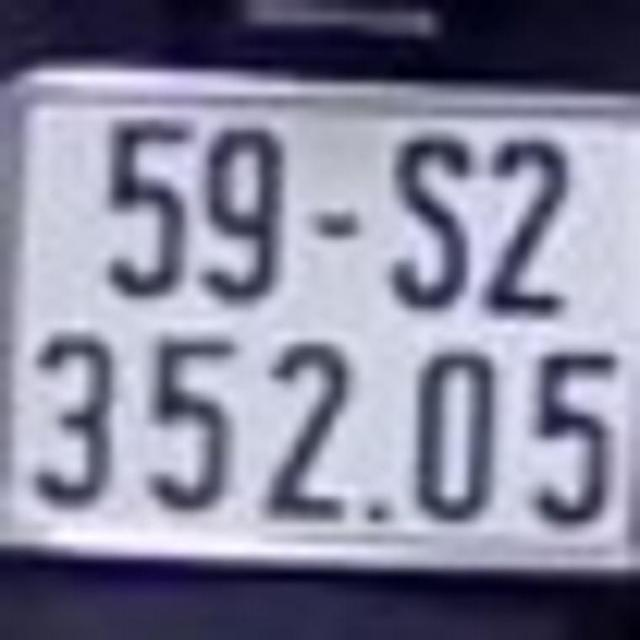0: (419, 347, 487, 522)
2: (267, 333, 343, 520), (496, 143, 573, 314)
3: (29, 338, 118, 512)
5: (536, 348, 616, 530), (154, 328, 233, 511), (113, 114, 187, 298)
9: (210, 130, 280, 303)
S: (393, 129, 472, 314)
